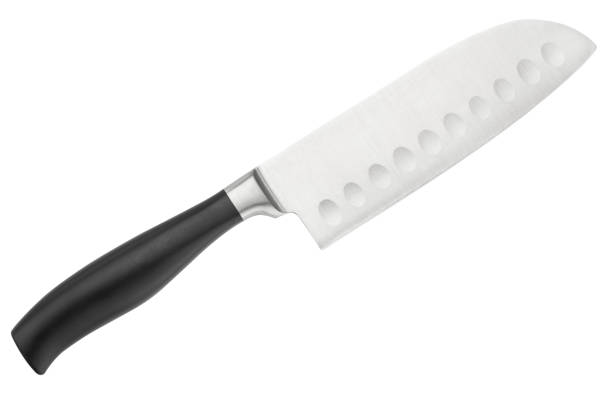knife: (11, 19, 599, 377)
